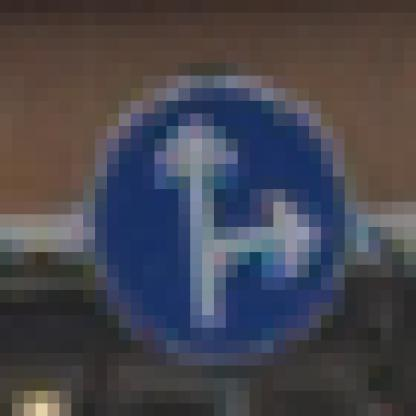Straight or Right: (72, 64, 346, 354)
